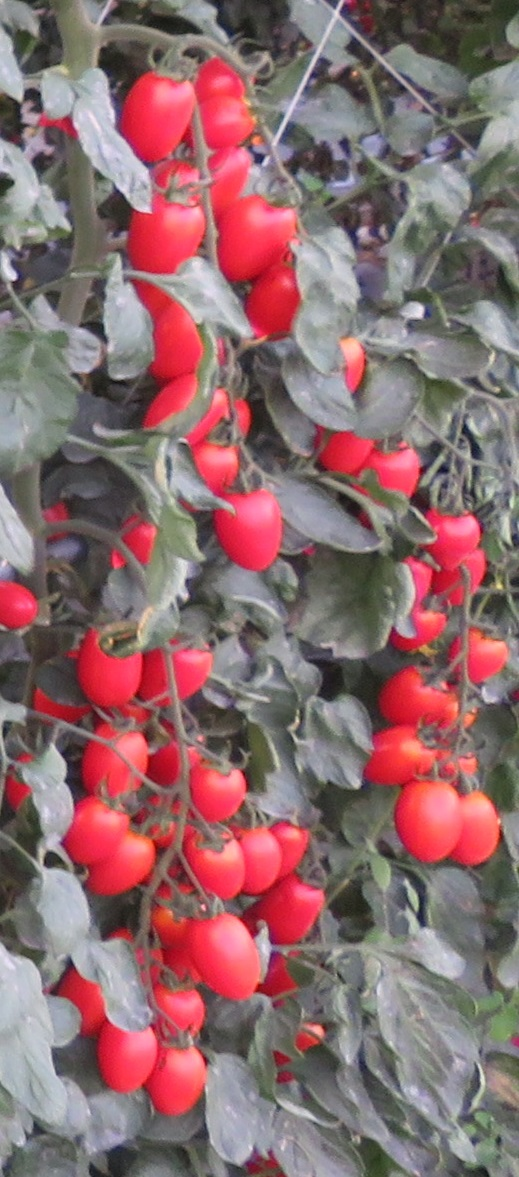orange: (85, 835, 152, 903)
red: (181, 914, 274, 1006), (145, 292, 226, 382), (219, 190, 297, 282), (121, 194, 202, 279), (74, 720, 155, 803), (144, 376, 228, 453), (394, 776, 464, 867), (121, 68, 192, 157), (140, 1050, 225, 1120), (177, 96, 265, 160), (216, 495, 281, 574), (142, 638, 214, 709), (260, 871, 326, 946), (245, 261, 305, 340), (97, 1018, 158, 1095), (353, 726, 431, 785), (420, 506, 481, 579), (186, 835, 249, 903), (378, 666, 453, 722), (455, 782, 501, 873), (73, 646, 134, 709), (186, 767, 255, 822), (241, 818, 286, 900), (449, 627, 509, 687), (370, 442, 422, 505), (60, 804, 115, 860), (333, 337, 367, 394), (1, 582, 40, 631)
